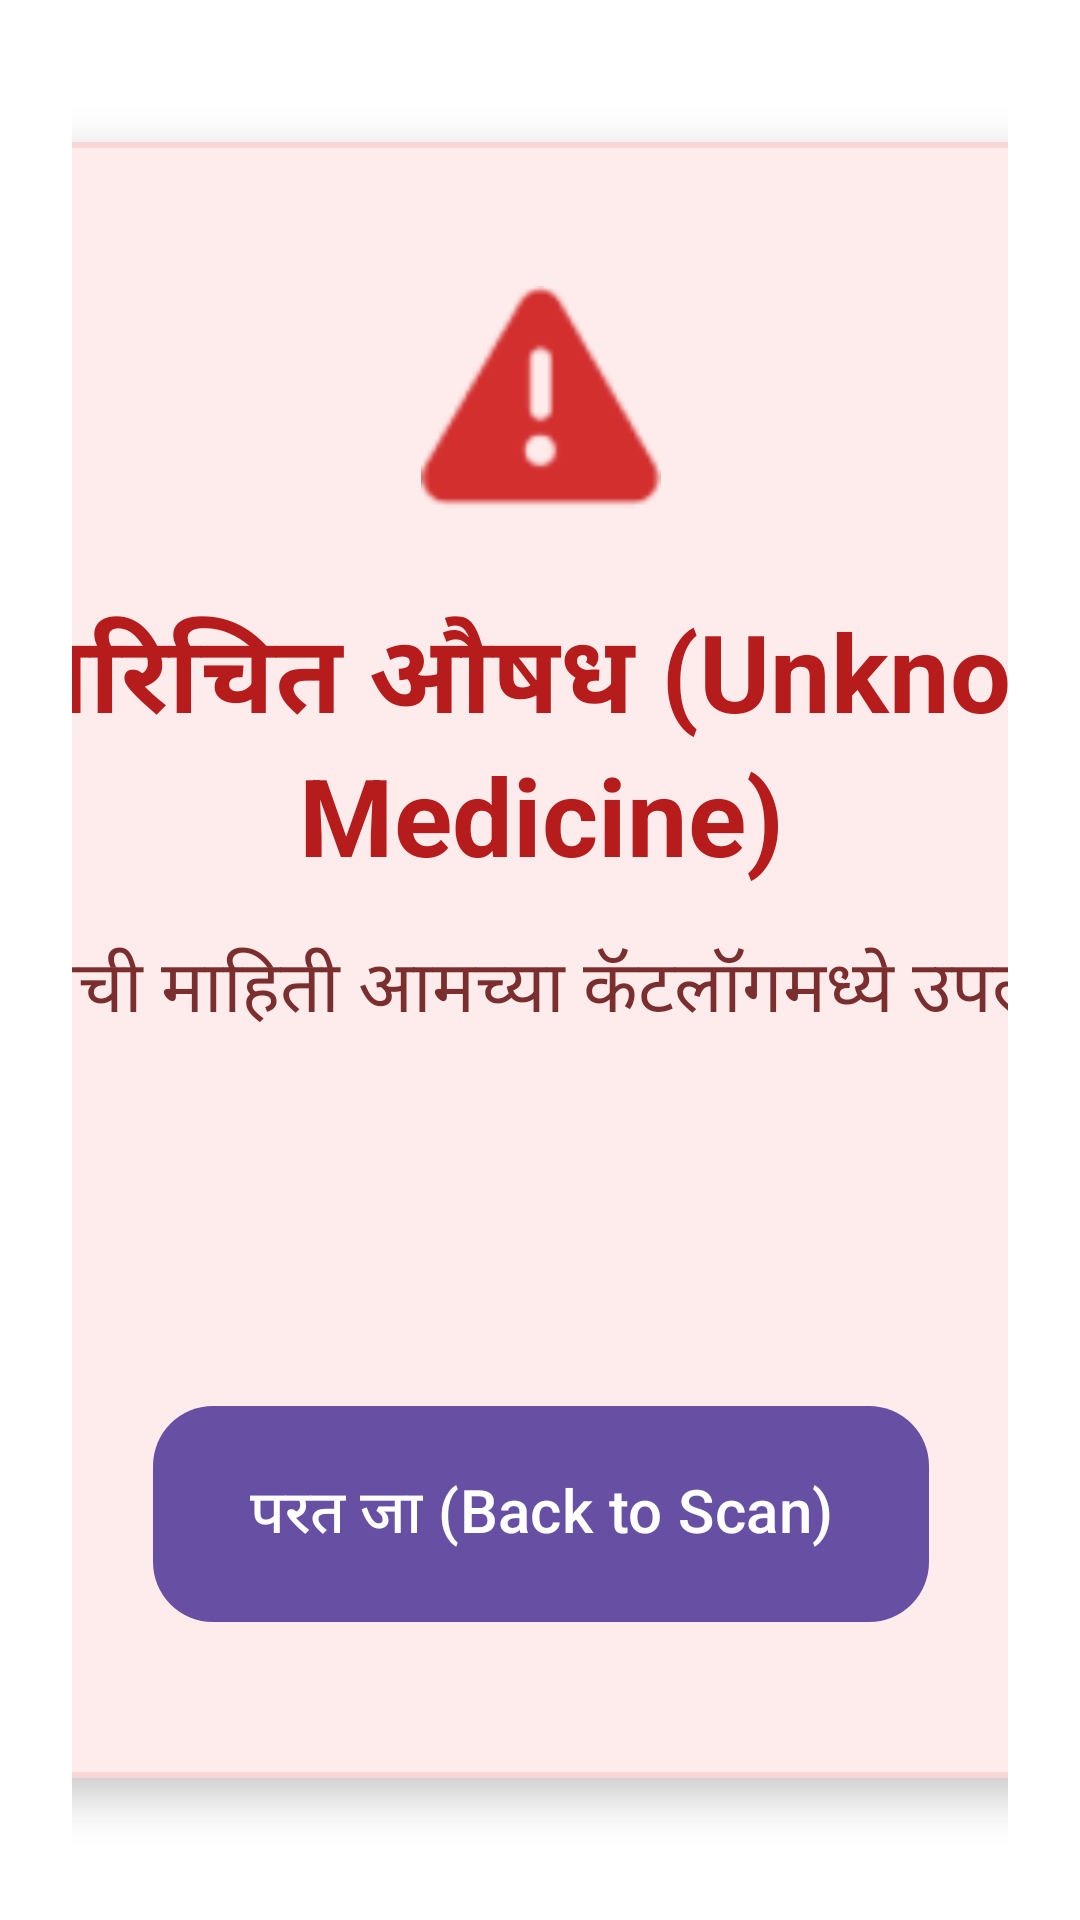

Screen size 1080w x 1920h. Icon name, then its center in pixels as (x,y):
alert: (541,395)
